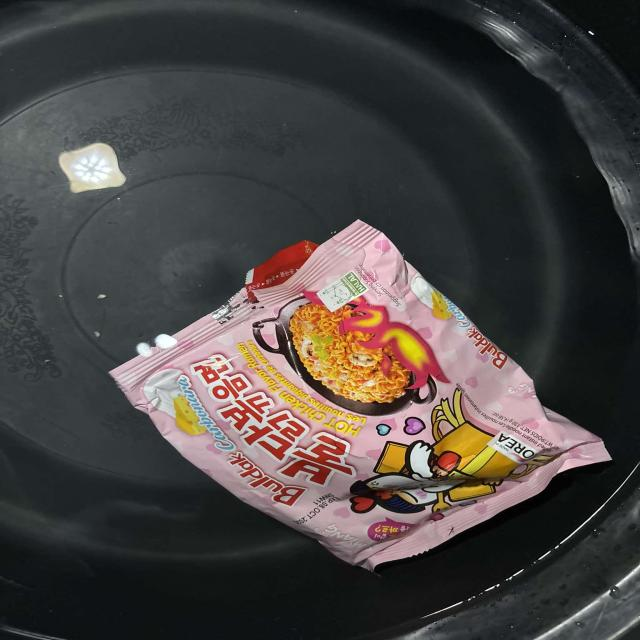Plastic Wrapper: (78, 222, 610, 571)
